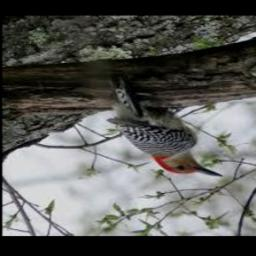Woodpecker: (108, 77, 224, 178)
